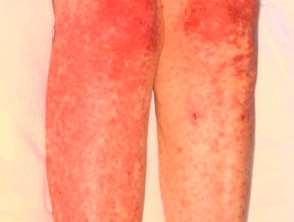SJS-TEN: (34, 0, 164, 222), (178, 0, 261, 139)
